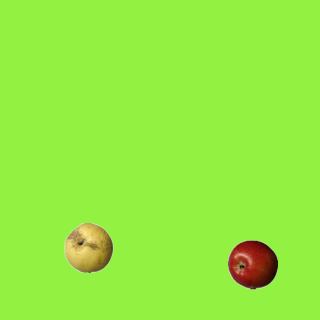Apple Braeburn: (227, 239, 277, 289)
Apple Golden 1: (63, 222, 113, 272)
